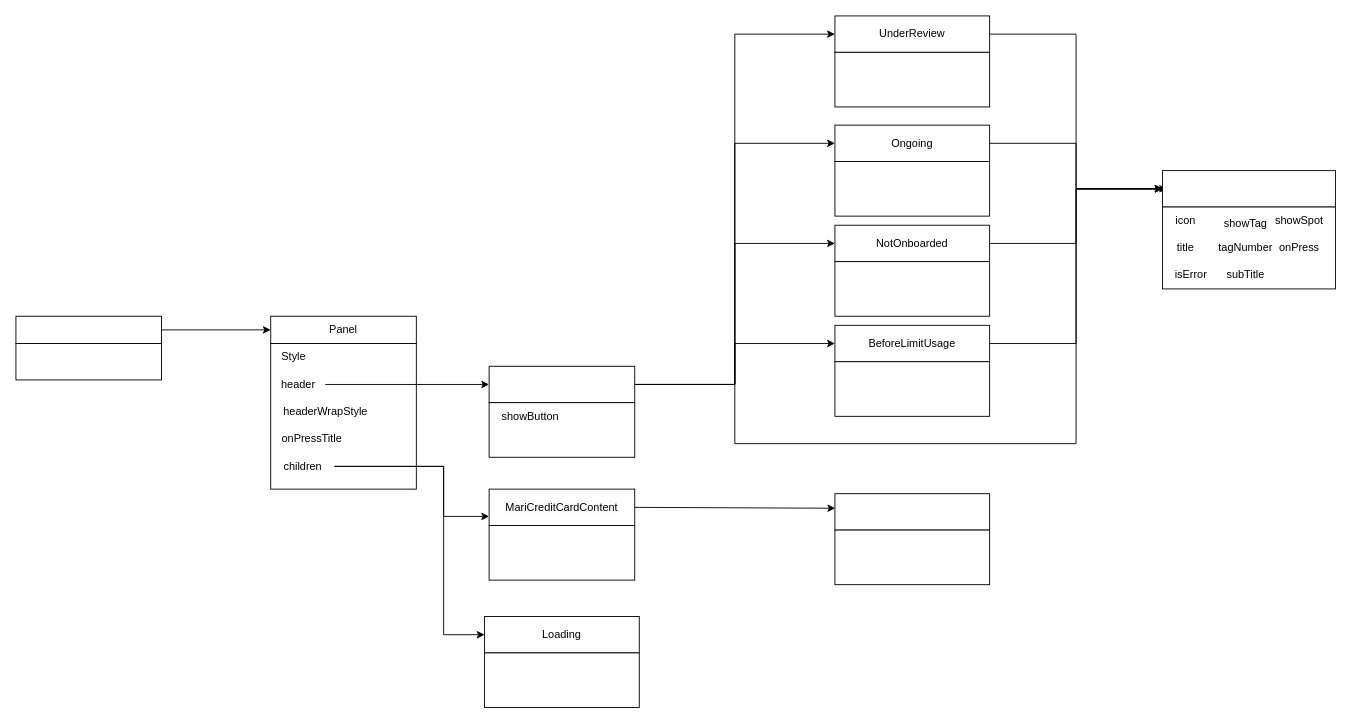
This 1351x723 diagram has some shape labels left out. Each missing label, with the centre of its shape:
AfterLimitUsage: pixel 912 511
CreditHeader: pixel 1248 188
MariCreditCard: pixel 88 329
MariCreditCardHeader: pixel 561 384
